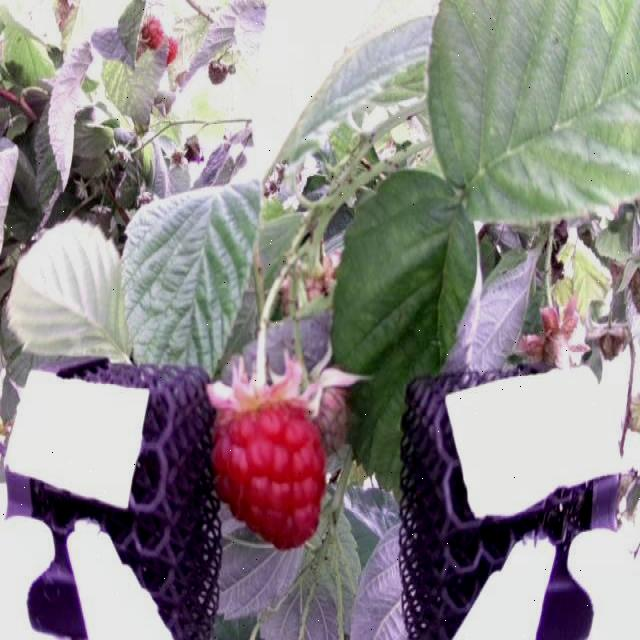Riped berries: (212, 371, 330, 552), (139, 13, 164, 51), (164, 29, 187, 68)
